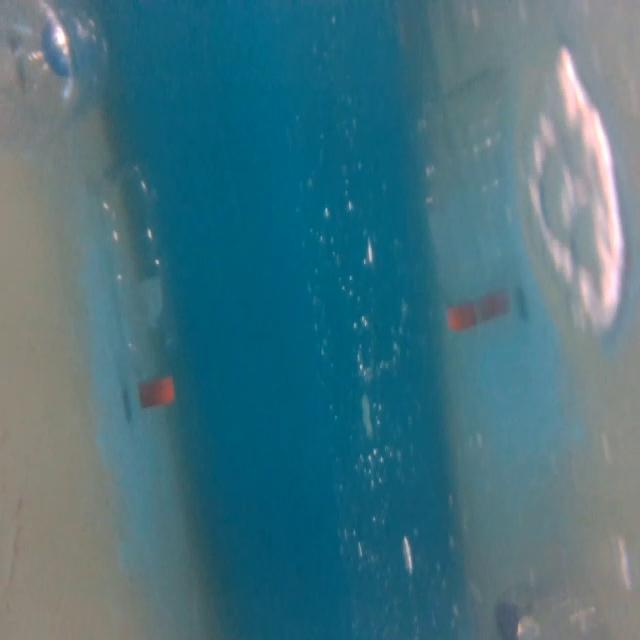plastic bottle: (87, 150, 196, 413)
